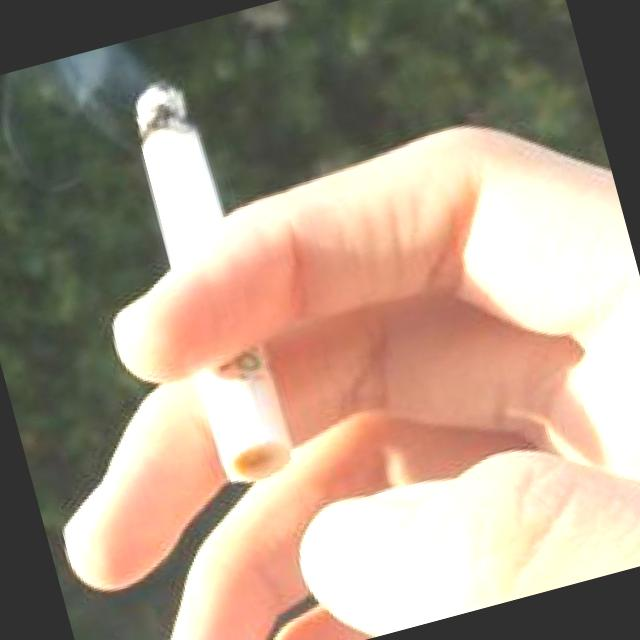cigarette: (88, 57, 332, 494)
